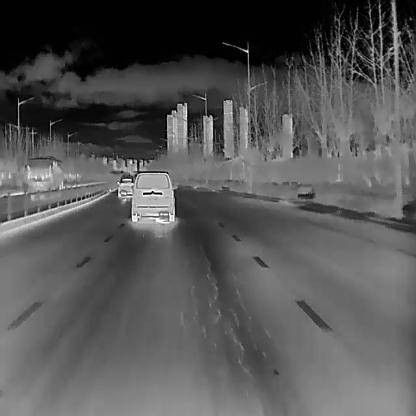car: (130, 168, 177, 224), (116, 174, 134, 199)
truck: (24, 155, 60, 199)
